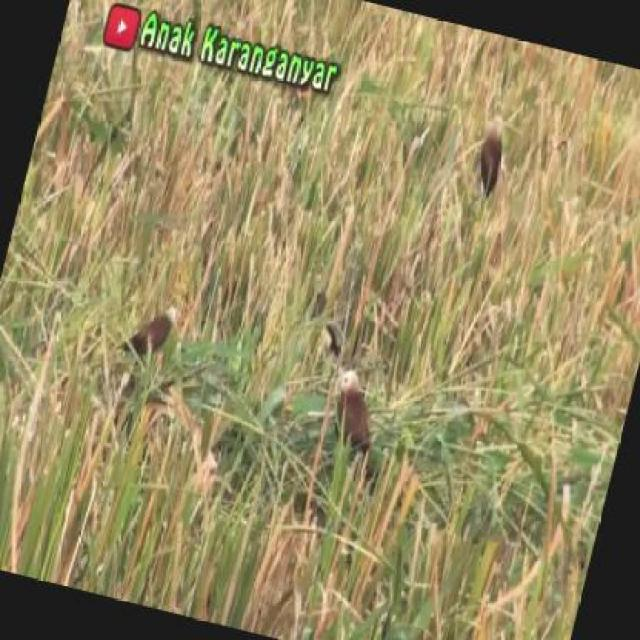Bird: (325, 369, 395, 471), (118, 293, 188, 370), (463, 109, 509, 200)
